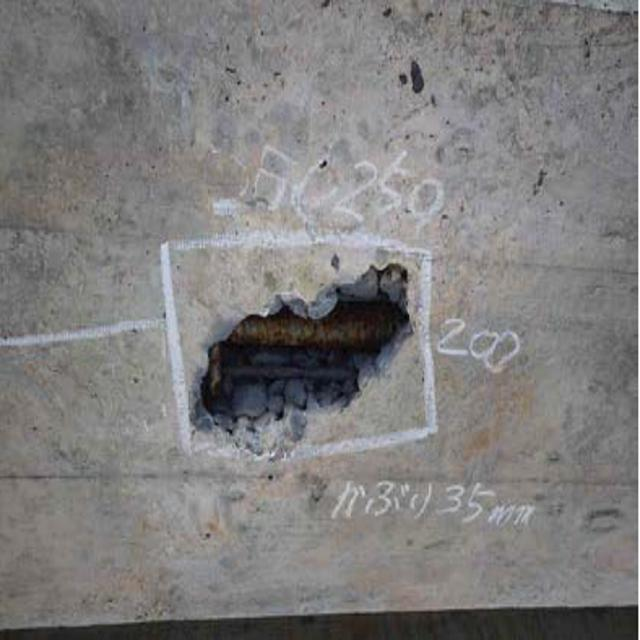spalling: (187, 262, 433, 448)
